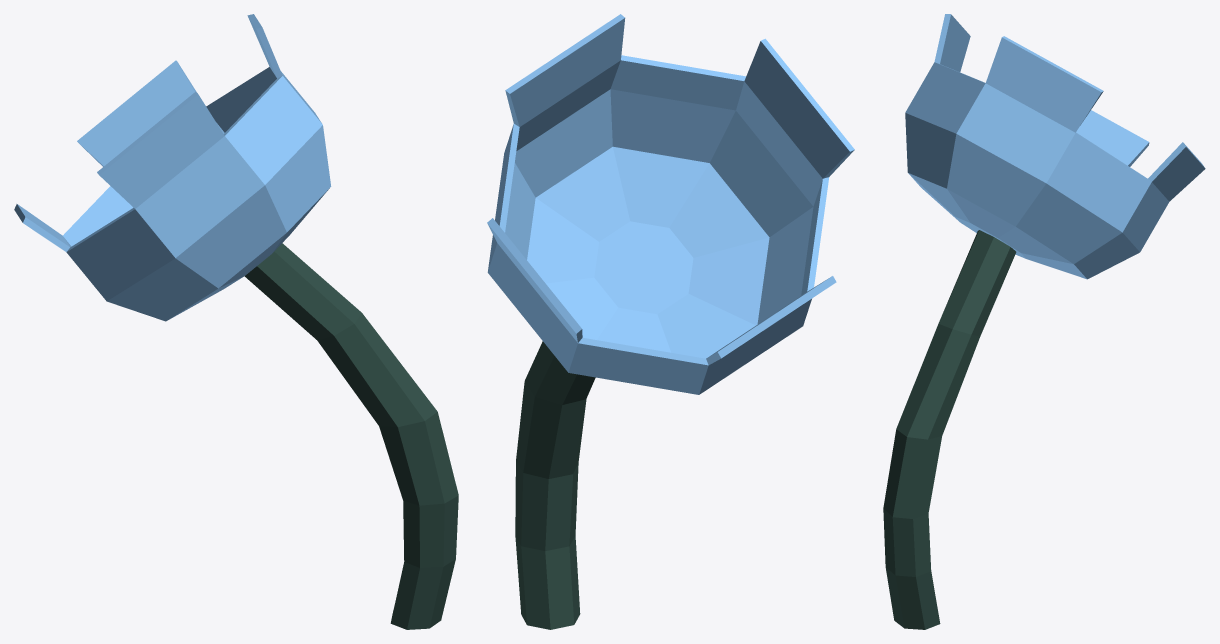
File: Pot_2a_plantsingle.fbx
3 views of the same model, side by side, from view 1: azimuth 30°, elevation 25°; view 2: azimuth 150°, elevation 25°; view 3: azimuth 270°, elevation 25° (orthographic). The views are drawn at different scales.
Parts seen in each view (by area): view 1: Circle.001; view 2: Circle.001; view 3: Circle.001.
Part boxes in pixels (x1=…): Circle.001: x1=14, y1=14, x2=458, y2=629; Circle.001: x1=487, y1=14, x2=854, y2=629; Circle.001: x1=883, y1=14, x2=1205, y2=629.
Bounding box in the file's own units: 49.24 × 77.84 × 42.48.
